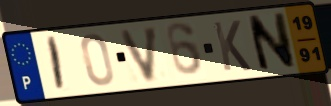0: (79, 32, 116, 88)
6: (167, 20, 205, 83)
I: (46, 35, 67, 94)
K: (211, 19, 254, 74)
N: (244, 10, 298, 74)
V: (117, 23, 161, 84)
